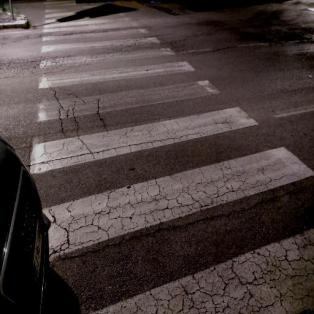Paso de Cebra: (22, 79, 275, 177)
